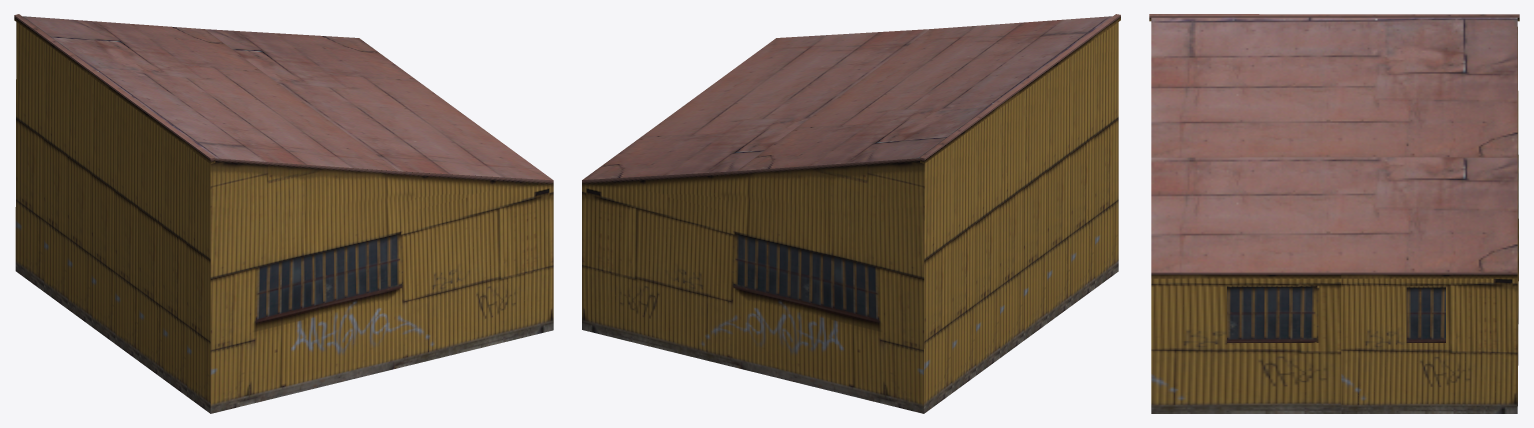
File: barrack04_elements_0.glb
The picture shows the model from 3 angles, left to right: view 1: azimuth 30°, elevation 25°; view 2: azimuth 150°, elevation 25°; view 3: azimuth 270°, elevation 25°; orthographic projection. The views are drawn at different scales.
Visible parts, largest first — view 1: barrack04_elements_0.003; view 2: barrack04_elements_0.003; view 3: barrack04_elements_0.003.
Boxes of the visible parts, box(x1,y1,x2,y2) form: barrack04_elements_0.003: box(14, 14, 553, 413); barrack04_elements_0.003: box(582, 14, 1120, 413); barrack04_elements_0.003: box(1149, 14, 1519, 413).
Bounding box in the file's own units: 6.69 × 4.76 × 6.61.
1 material, 1 textured.
